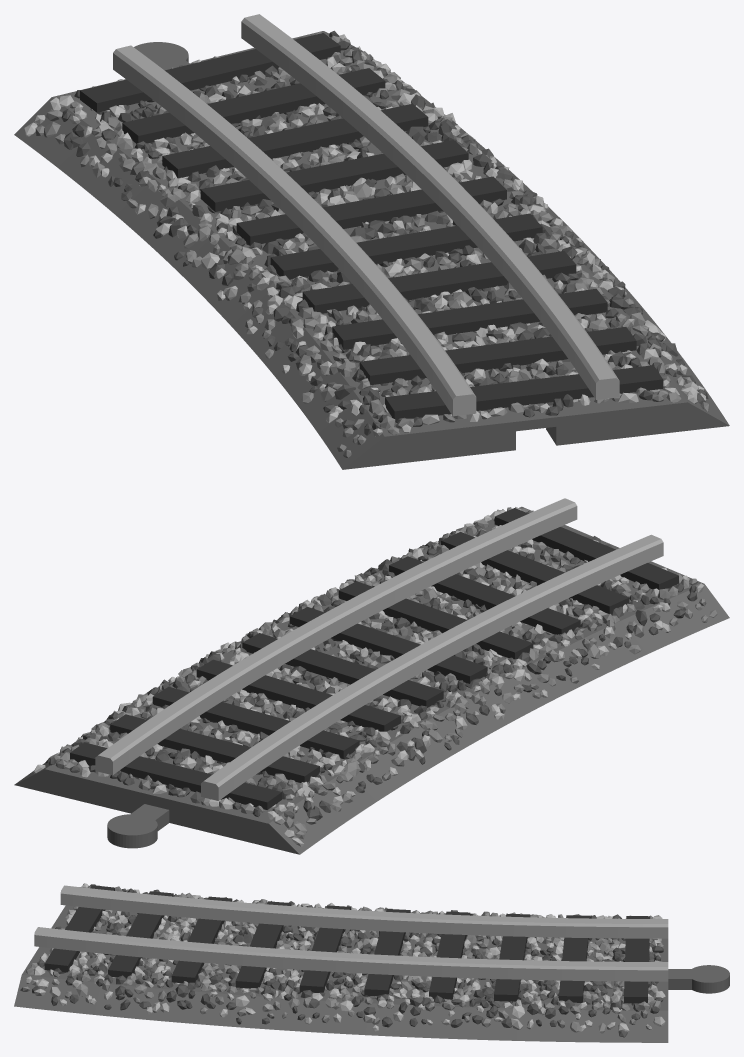
The model's file is Rail_Left_75_90.obj.
The picture shows the model from 3 angles, top to bottom: view 1: azimuth 30°, elevation 25°; view 2: azimuth 150°, elevation 25°; view 3: azimuth 270°, elevation 25°; orthographic projection. The views are drawn at different scales.
Visible parts, largest first — view 1: Rail_Left_75_90; view 2: Rail_Left_75_90; view 3: Rail_Left_75_90.
Part boxes in pixels (<box>): Rail_Left_75_90: <box>14,14,729,469</box>; Rail_Left_75_90: <box>14,498,729,854</box>; Rail_Left_75_90: <box>14,883,729,1042</box>.
Size of the model in its own units: 0.5885 by 0.0798 by 1.2.
1 material, 1 textured.
